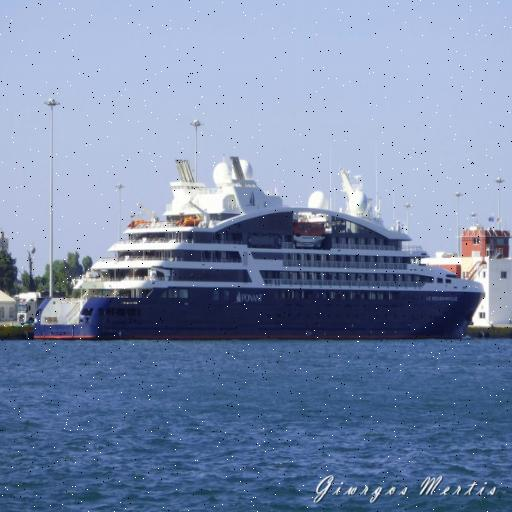cruises: (32, 157, 489, 345)
